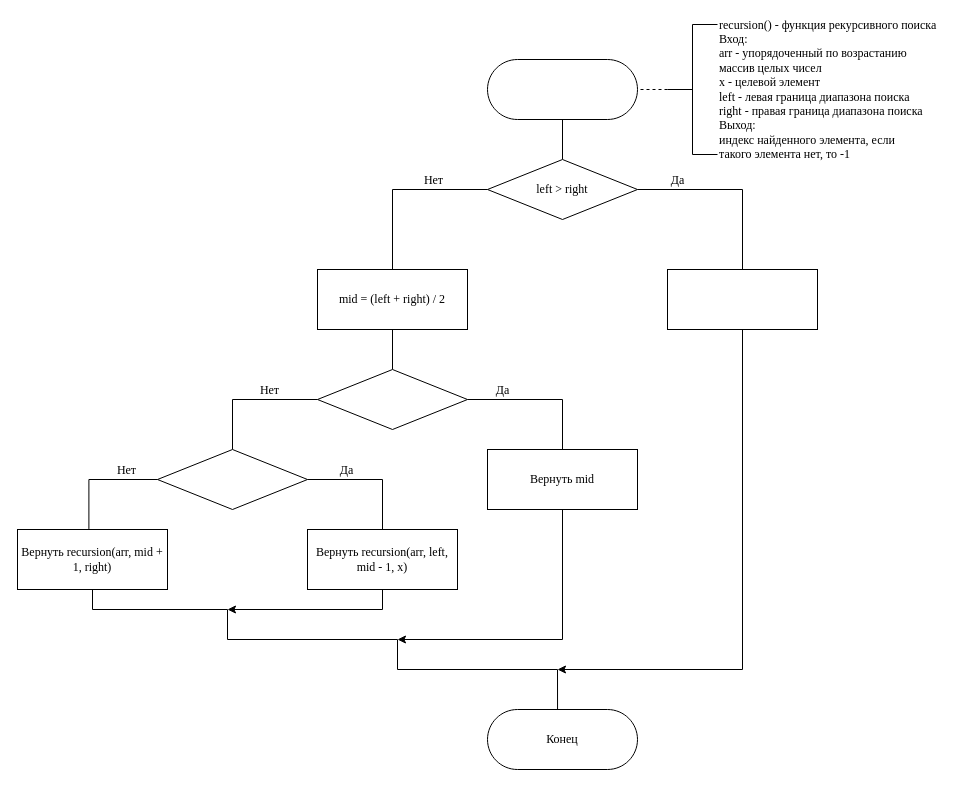
This 954x787 diagram has some shape labels left out. Each missing label, with the centre of its shape:
arr[mid] == x: pixel 392 399
arr[mid] > x: pixel 232 479
Вернуть -1: pixel 742 299
Начало: pixel 562 89
